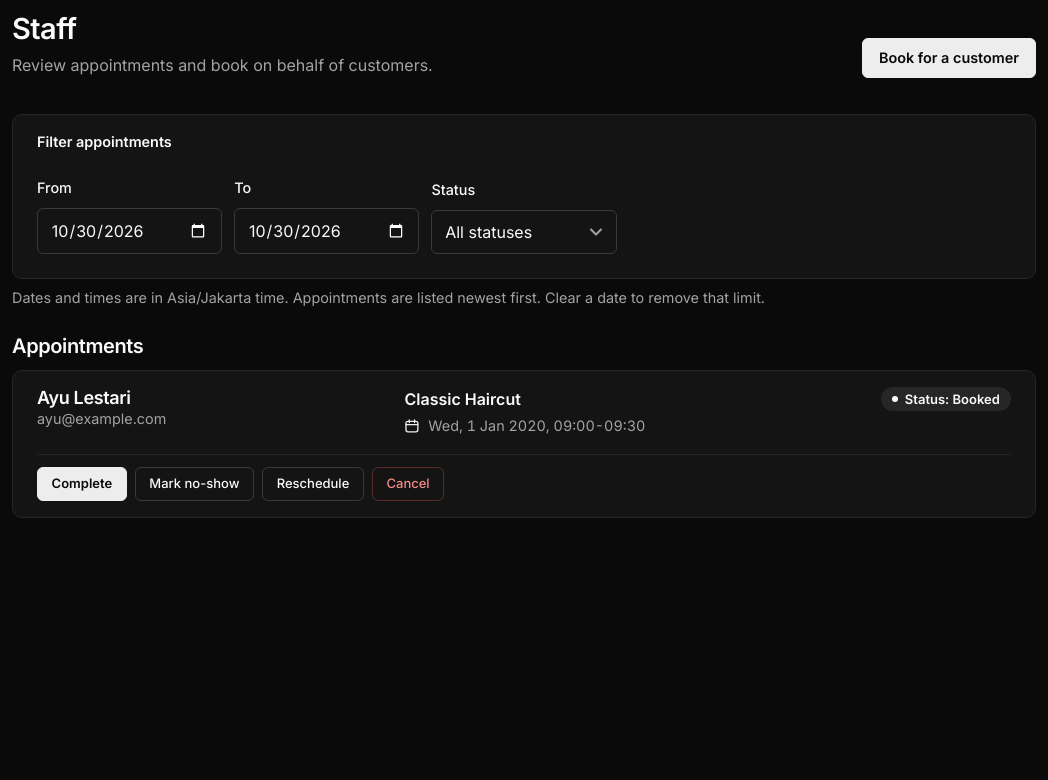
StaffAppointmentList actions › shows the server message and refetches the list on a 409
Click the button named "Mark no-show for Ayu Lestari" at (194,484), box [135, 467, 254, 501]
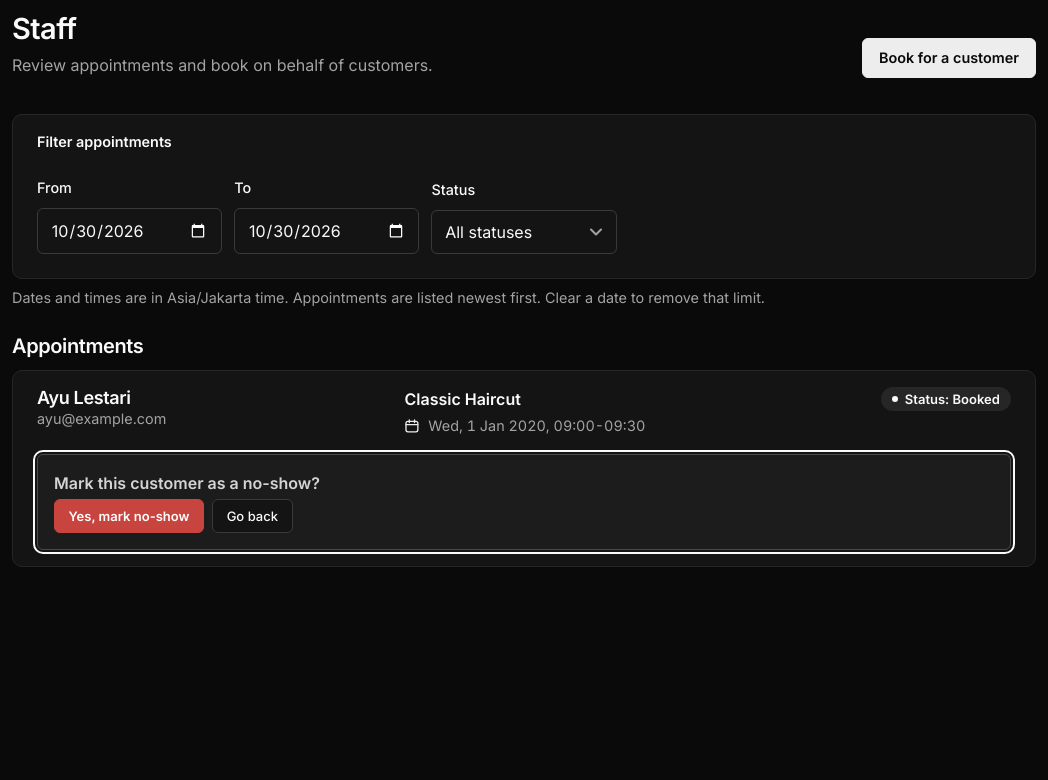
Click the button "Yes, mark no-show" at (129,516), box [54, 499, 204, 533]
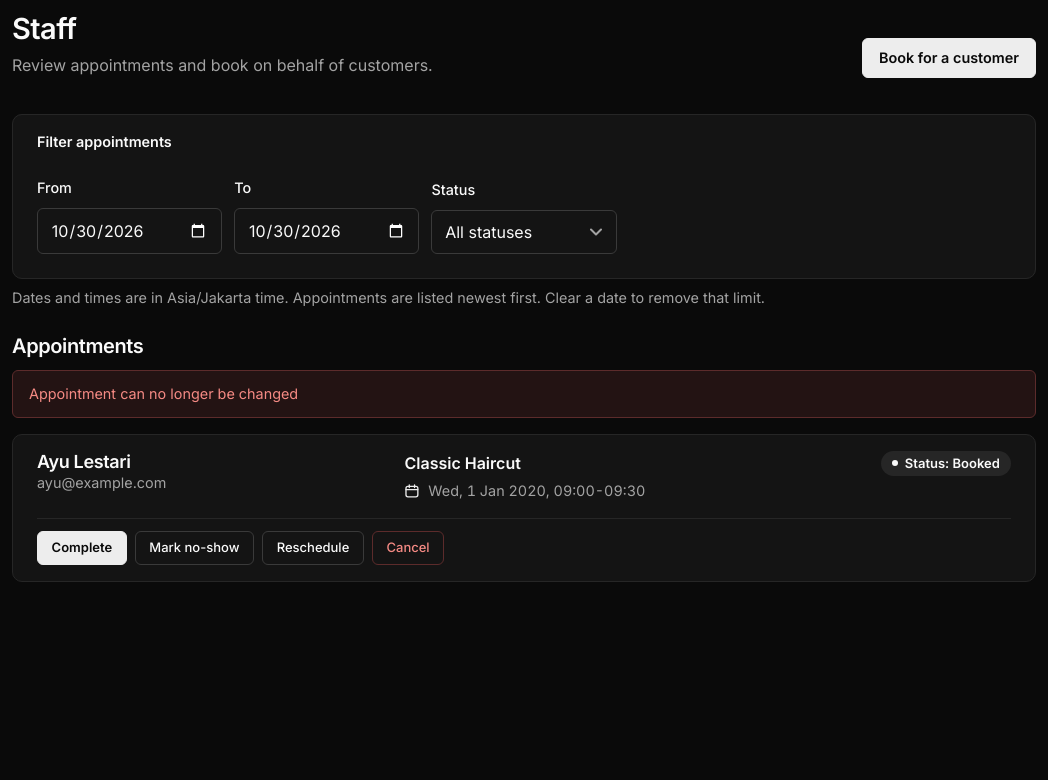
Check: the message reads "Appointment can no longer be changed", box [29, 384, 298, 402]
